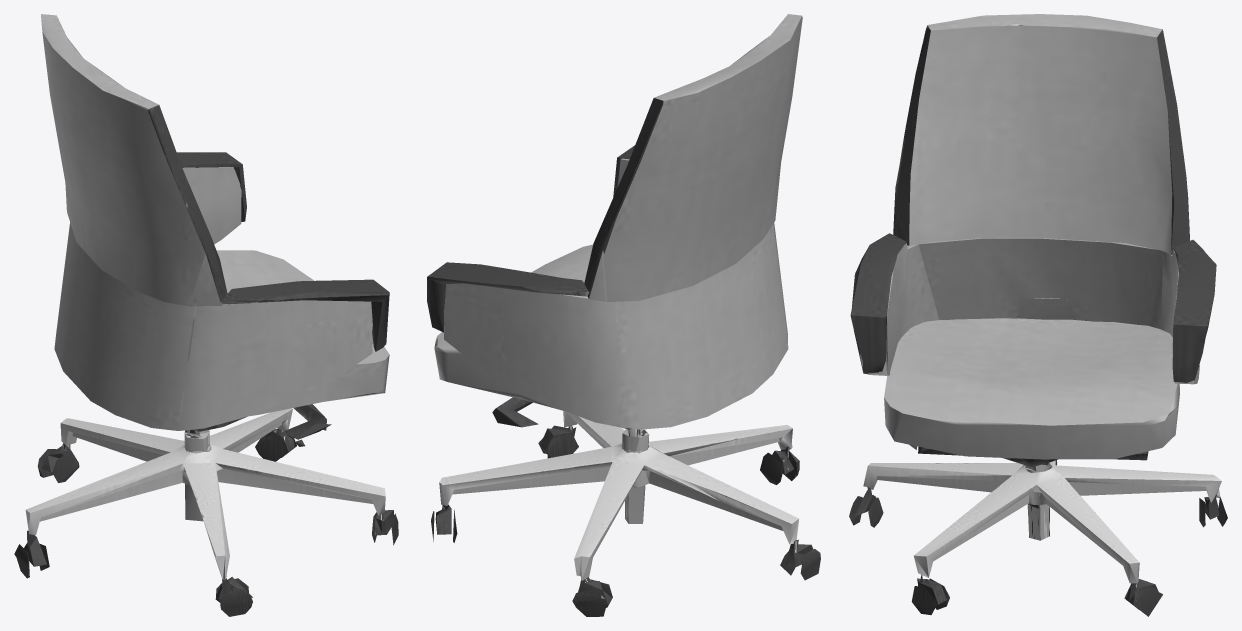
The model's file is BAILEYS-chair-01.obj.
3 views of the same model, side by side, from view 1: azimuth 30°, elevation 25°; view 2: azimuth 150°, elevation 25°; view 3: azimuth 270°, elevation 25° (orthographic). The views are drawn at different scales.
Size of the model in its own units: 0.735 by 1.07 by 0.768.
1 material, 1 textured.
